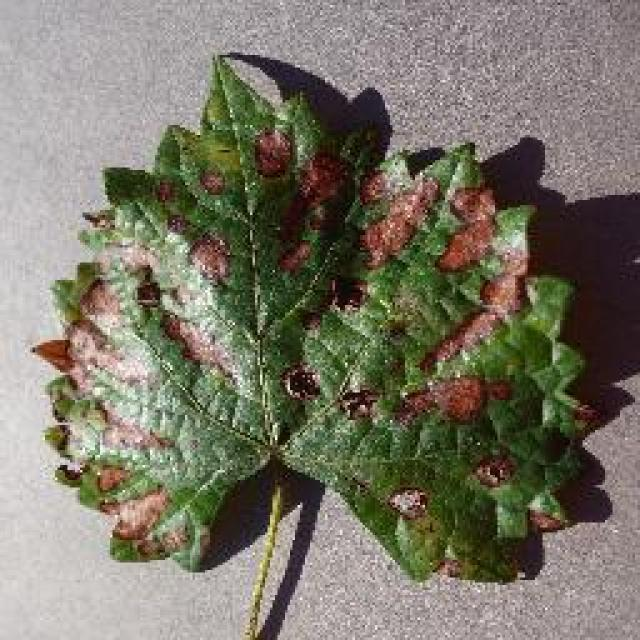Black_Measles: (42, 35, 607, 625)
